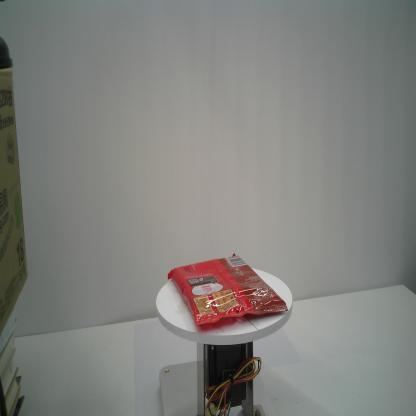Dessert: (166, 252, 288, 326)
